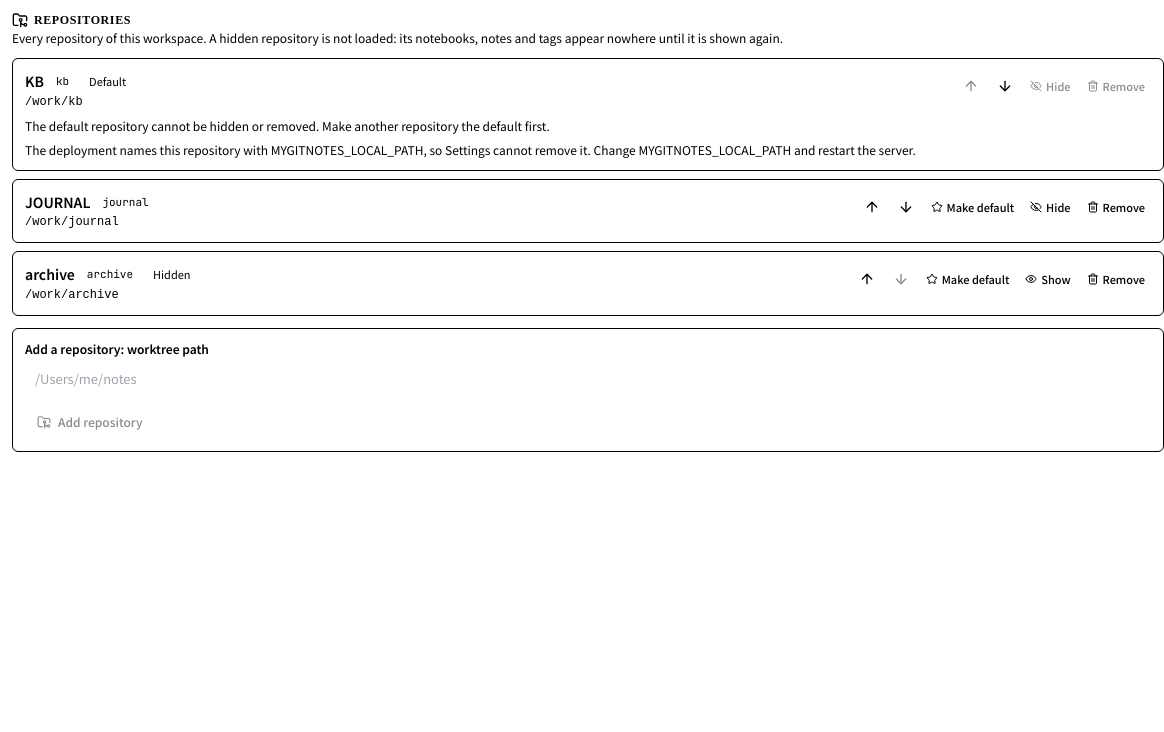
it: reloads the list and says so when it changed since it was read
Expected: the text "JOURNAL" is shown, [25,192,90,212]
Click the button "Make default" in the row of "/work/journal": coordinates (972, 206) [924,194,1020,218]
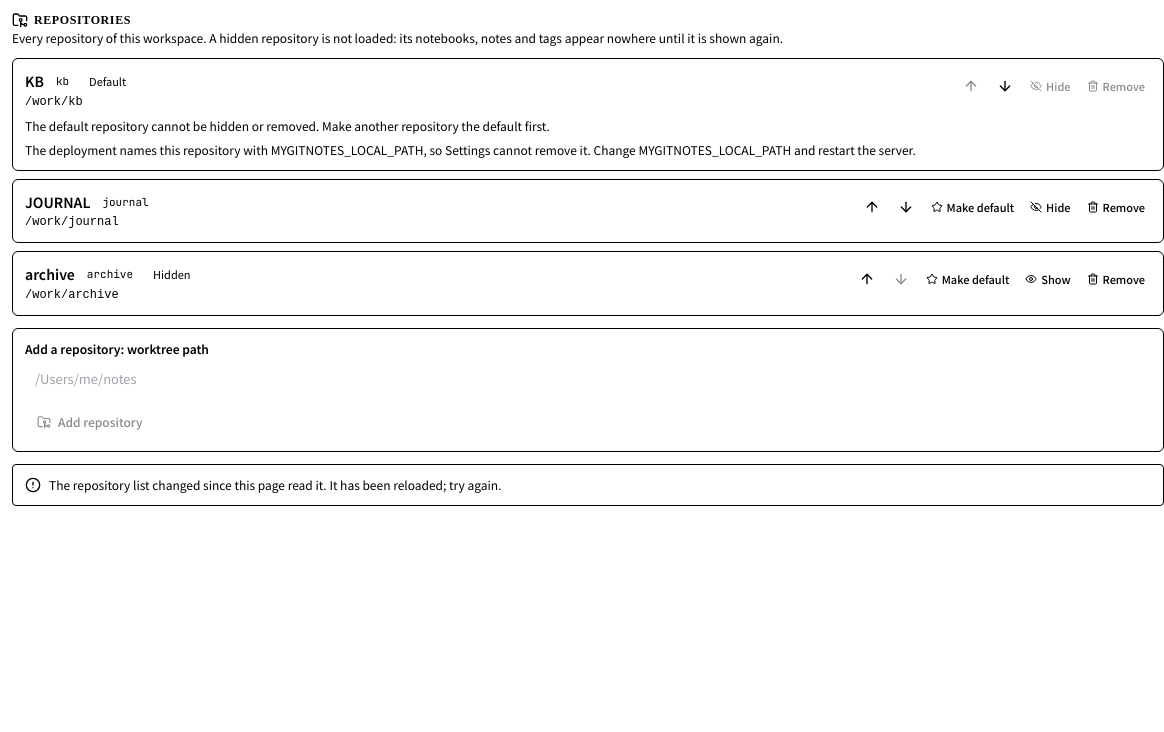
Result: the text "The repository list changed since this page read it. It has been reloaded; try again." is shown at [49,476,502,492]
